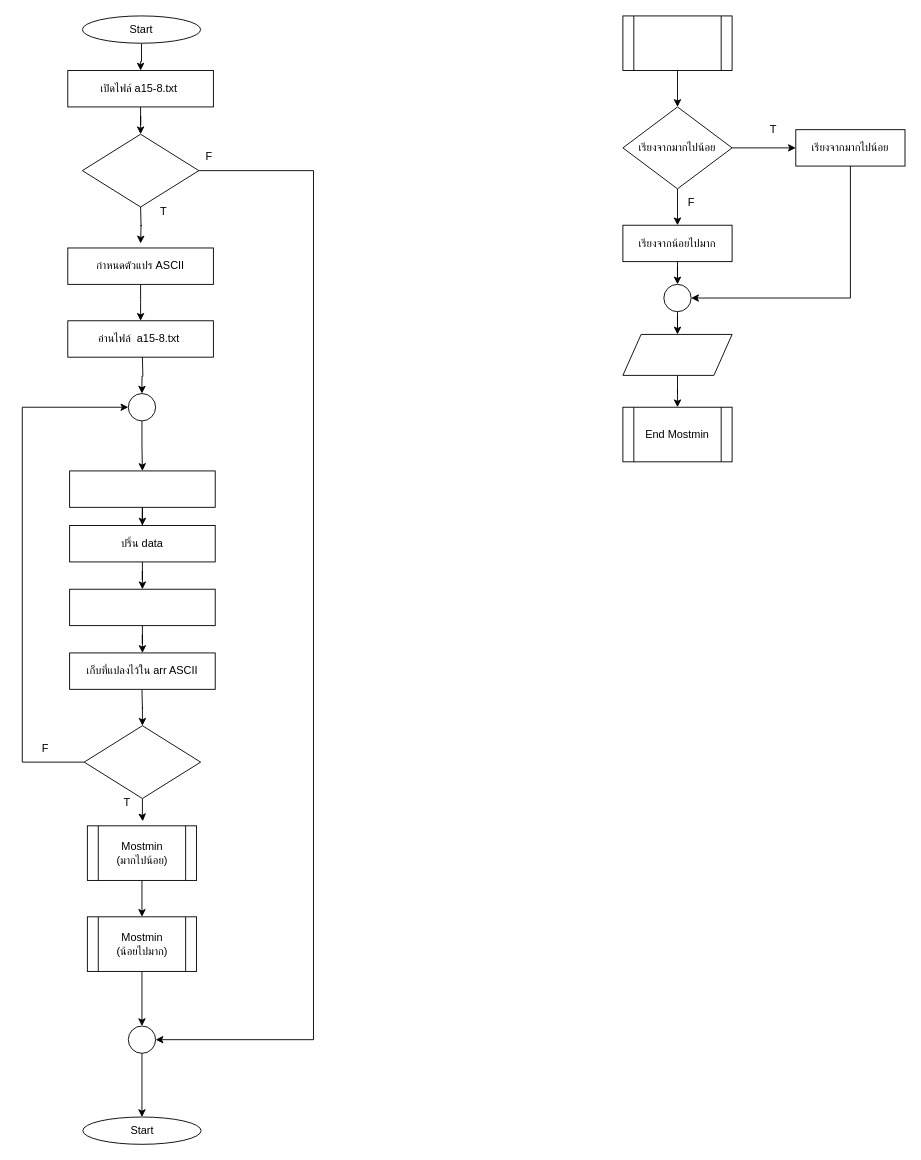
The diagram is 921 pixels wide and 1160 high, and some of its shapes have lost their labels. Each missing label, with the box of its shape:
Start Mostmin: (622, 15, 732, 71)
ปริ้นเลขที่โดนเรียง: (622, 334, 732, 375)
เปิดได้หรือไม่: (81, 133, 199, 207)
เอาข้อความใน a15-8.txt ใส่ arr data: (69, 470, 215, 507)
แปลงข้อมูลเป็น ASCII: (69, 588, 215, 626)
แปลงครบทุกตัวแล้วหรือไม่: (83, 725, 201, 799)
